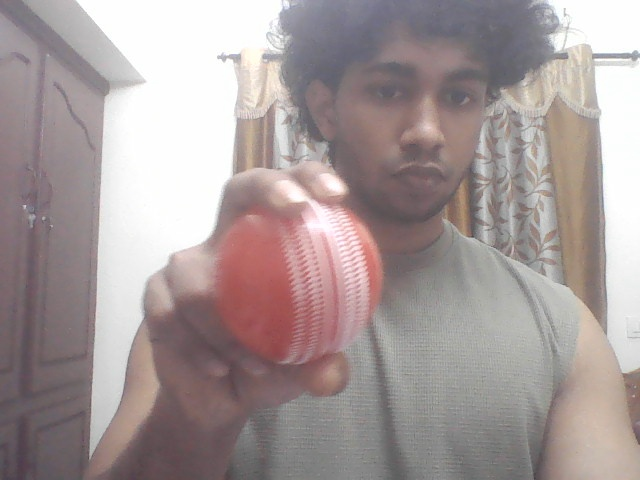cricket_ball: (201, 202, 391, 375)
